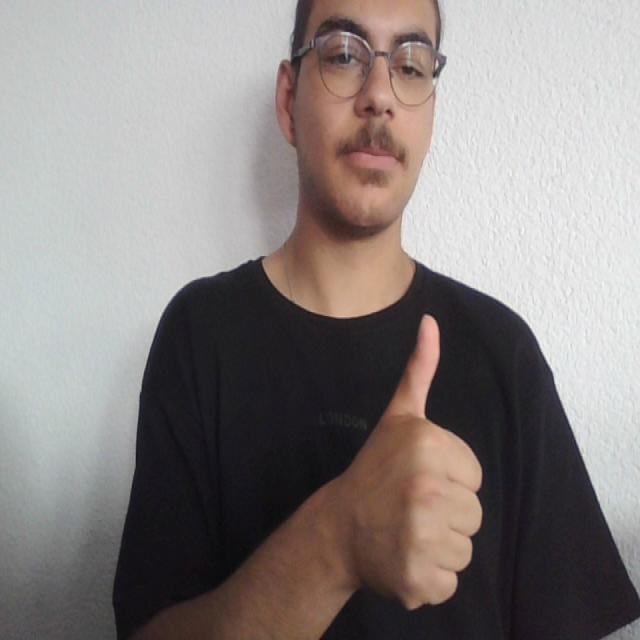Tamam: (342, 307, 491, 615)
